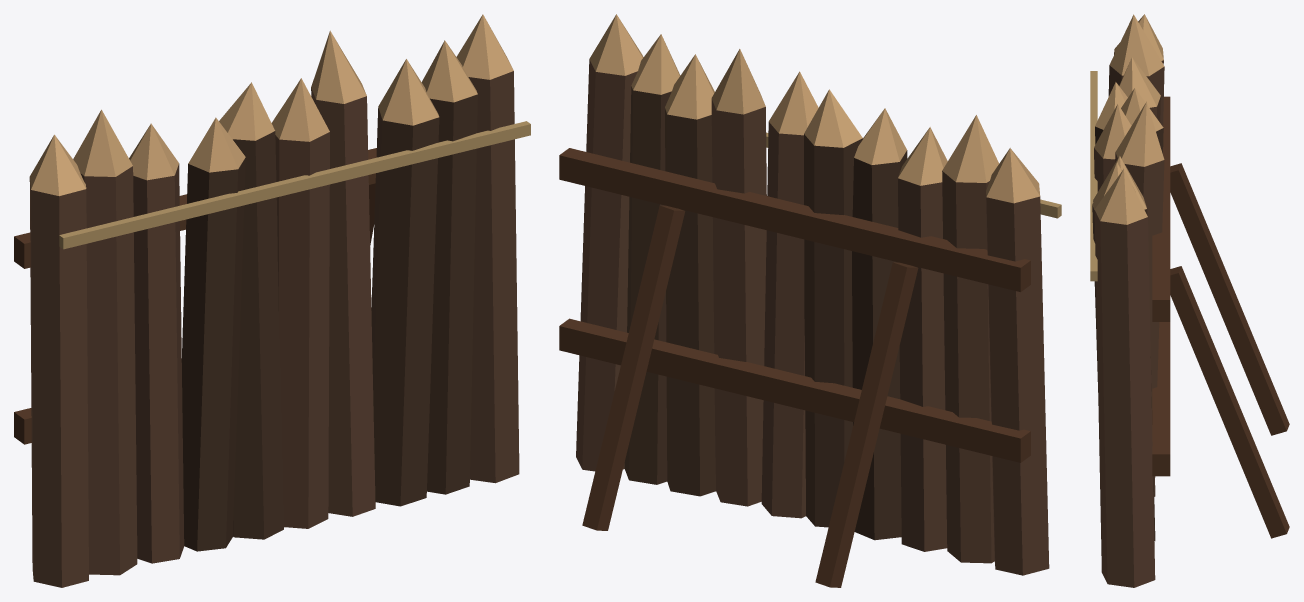
File: Palisade_Segment_B.fbx
3 views of the same model, side by side, from view 1: azimuth 30°, elevation 25°; view 2: azimuth 150°, elevation 25°; view 3: azimuth 270°, elevation 25° (orthographic). The views are drawn at different scales.
Visible parts, largest first — view 1: Palisade_Segment_B; view 2: Palisade_Segment_B; view 3: Palisade_Segment_B.
Part boxes in pixels (box(x1,y1,x2,y2)): Palisade_Segment_B: box(14, 14, 530, 587); Palisade_Segment_B: box(559, 14, 1061, 587); Palisade_Segment_B: box(1090, 14, 1289, 587).
Size of the model in its own units: 4.03 by 3.73 by 1.64.
